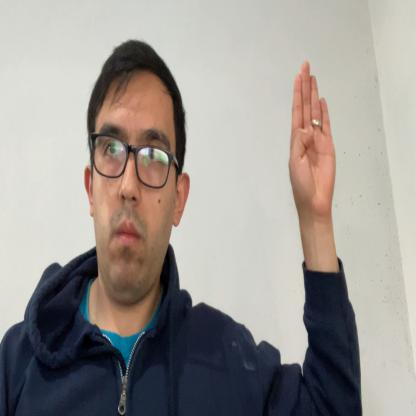B: (288, 61, 336, 222)
